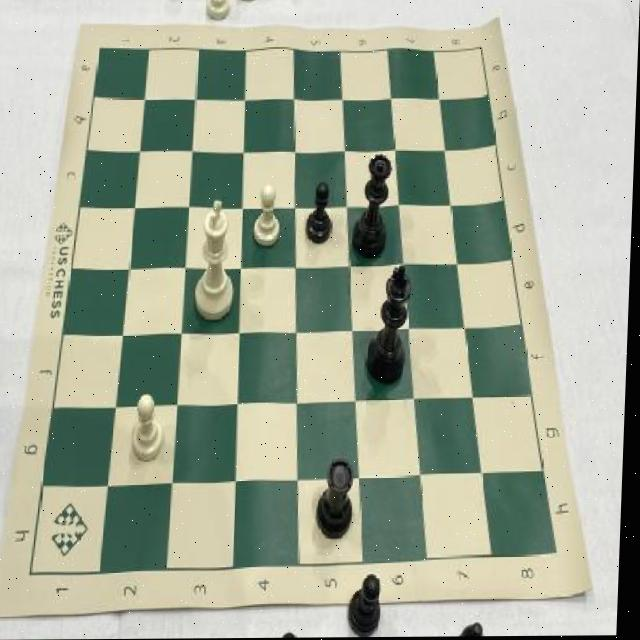black-bishop: (364, 264, 417, 390)
black-knight: (302, 178, 340, 247)
black-pawn: (349, 150, 398, 269)
black-queen: (318, 453, 362, 545)
white-bishop: (187, 196, 241, 326)
white-knight: (128, 391, 175, 465), (249, 183, 287, 249)
